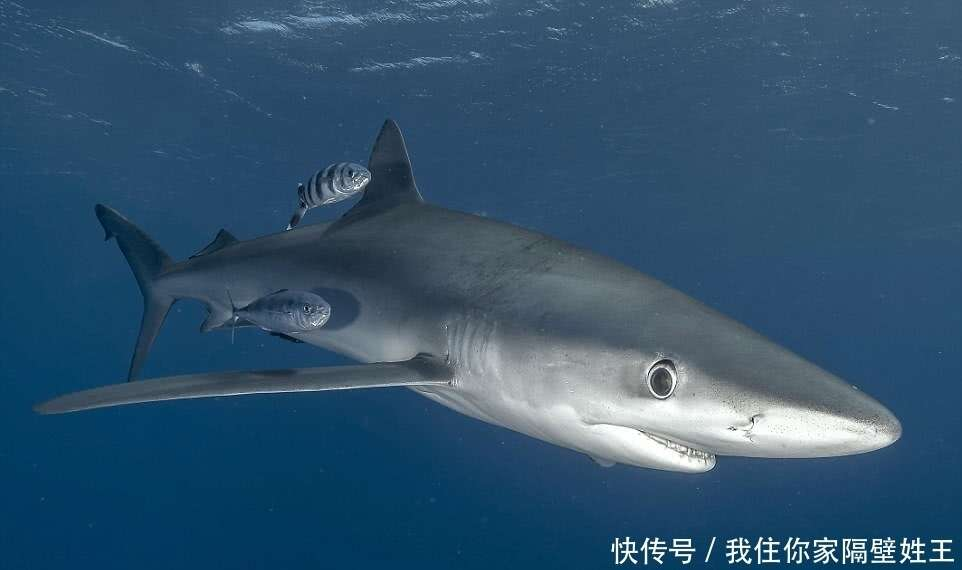shark: (27, 114, 911, 483)
